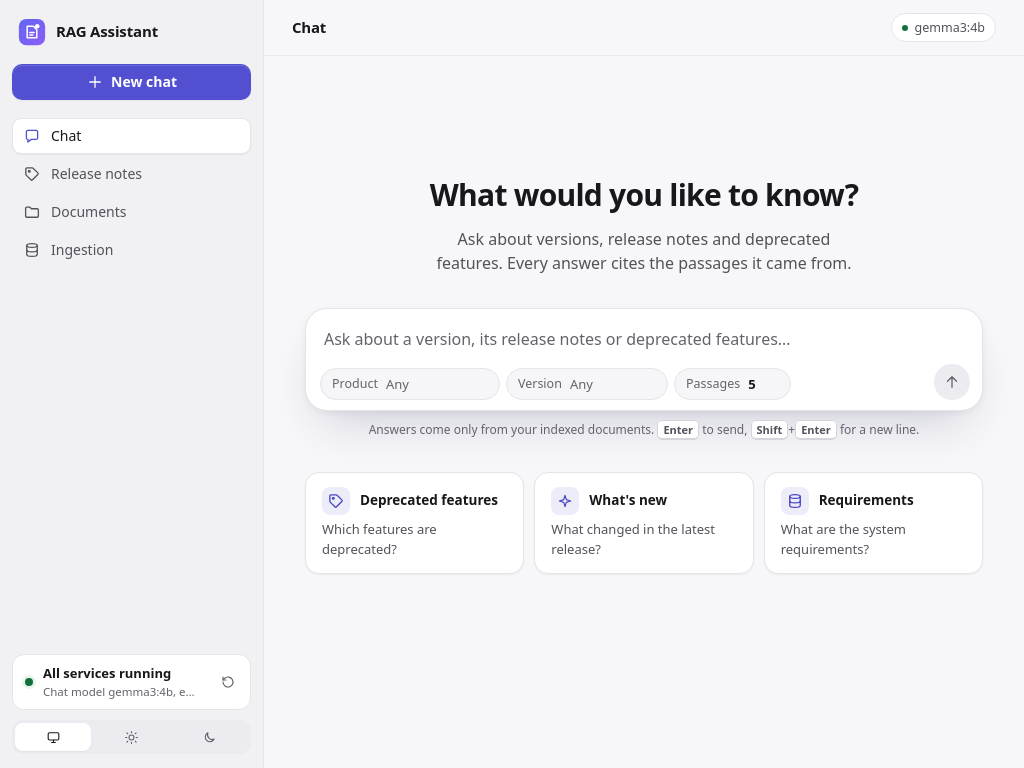
it: App shell › marks unbuilt sections as placeholders
The image size is (1024, 768).
Click the tab "Documents" at (75, 212), box [23,202,126,221]
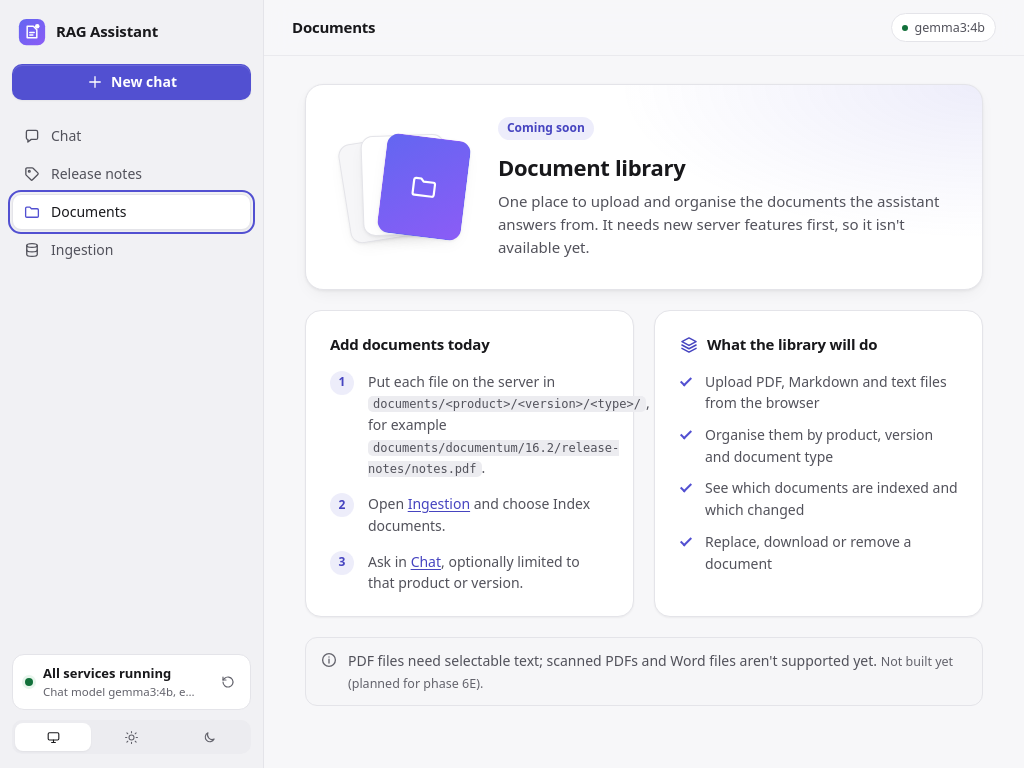
Check: the text "Not built yet (planned for phase 6E)." is shown, box [348,653,953,692]
